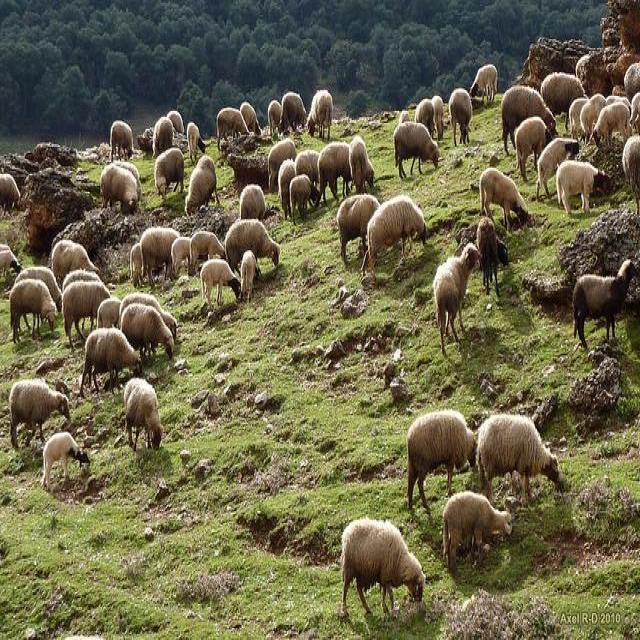Sheep: (0, 45, 639, 448), (340, 517, 424, 615), (476, 414, 561, 508), (405, 408, 478, 517), (443, 490, 512, 579), (573, 261, 639, 351), (433, 244, 484, 357), (361, 198, 427, 285), (9, 382, 73, 448), (390, 123, 441, 192), (123, 304, 177, 367), (224, 219, 282, 277), (337, 195, 381, 270), (41, 430, 90, 492), (201, 258, 242, 312)
